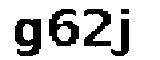2: (82, 8, 114, 47)
6: (49, 6, 81, 50)
g: (11, 15, 43, 58)
j: (112, 6, 135, 60)
